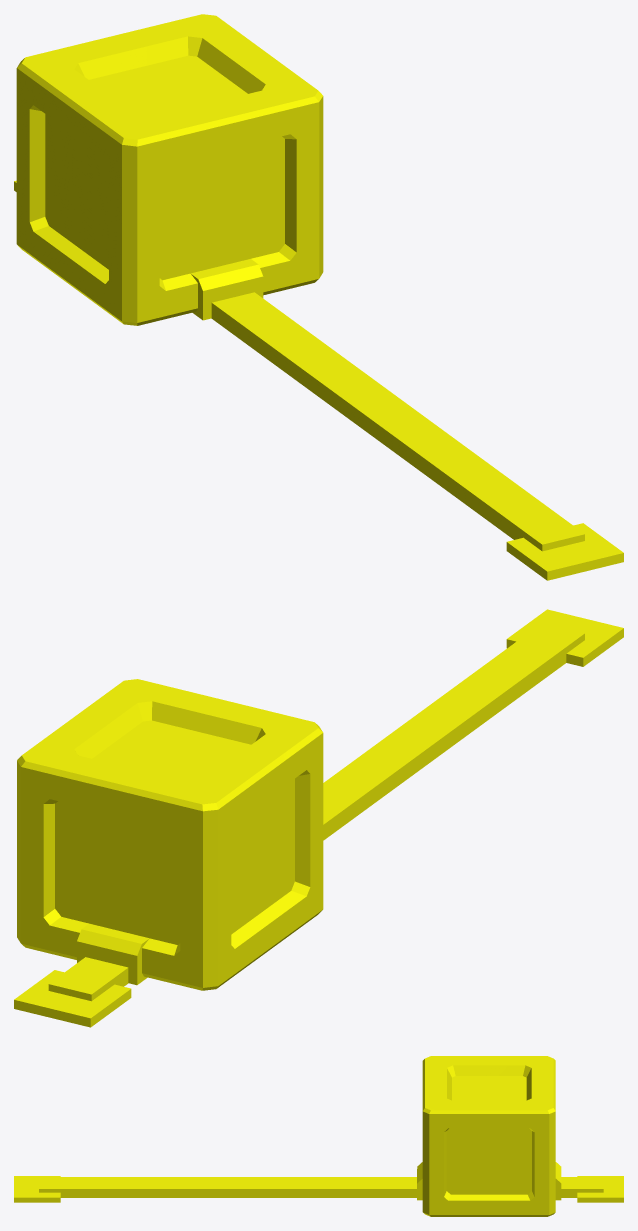
3 renders of one model, top to bottom at view 1: azimuth 30°, elevation 25°; view 2: azimuth 150°, elevation 25°; view 3: azimuth 270°, elevation 25°, orthographic. The views are drawn at different scales.
Visible parts, largest first — view 1: crate, Rail, Point02; view 2: crate, Rail, Point01, Point02; view 3: crate, Rail, Point02, Point01.
Part boxes in pixels (x1,y1,x2,y2): crate: [16, 14, 323, 325]; Rail: [211, 292, 584, 551]; Point02: [506, 523, 623, 580]; crate: [17, 679, 323, 990]; Rail: [48, 623, 584, 1001]; Point01: [14, 970, 131, 1027]; Point02: [506, 609, 623, 666]; crate: [417, 1056, 561, 1216]; Rail: [39, 1177, 603, 1197]; Point02: [14, 1176, 60, 1202]; Point01: [577, 1176, 623, 1202].
Size of the model in its own units: 0.0091 by 0.00822 by 0.0417.
1 material, 1 textured.
